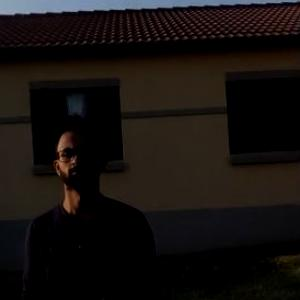follow: (18, 103, 170, 299)
